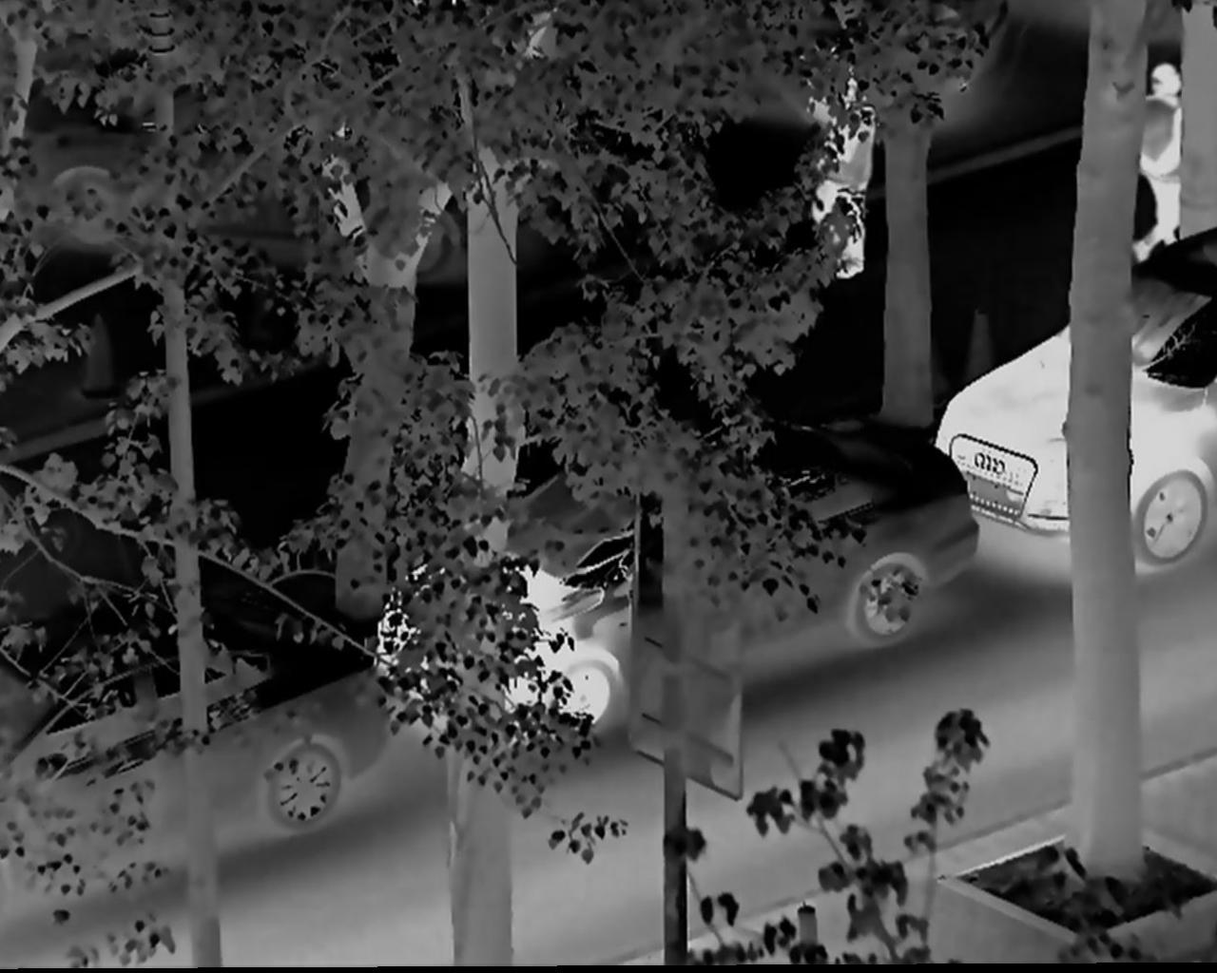person: (802, 49, 870, 269), (1134, 46, 1183, 259)
